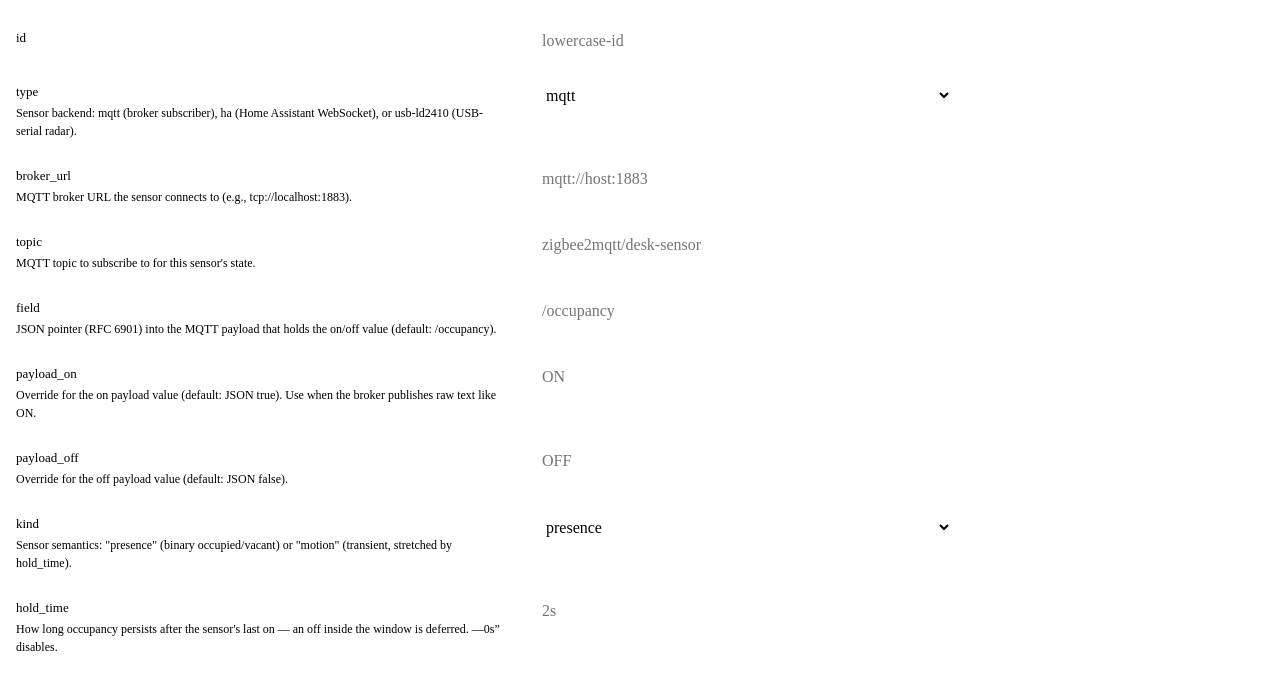
CreateEntityForm — id hygiene live feedback › rejects an id already present in existingIds
Type "desk" into the field labelled "id" at [742, 41], box [532,26,952,56]
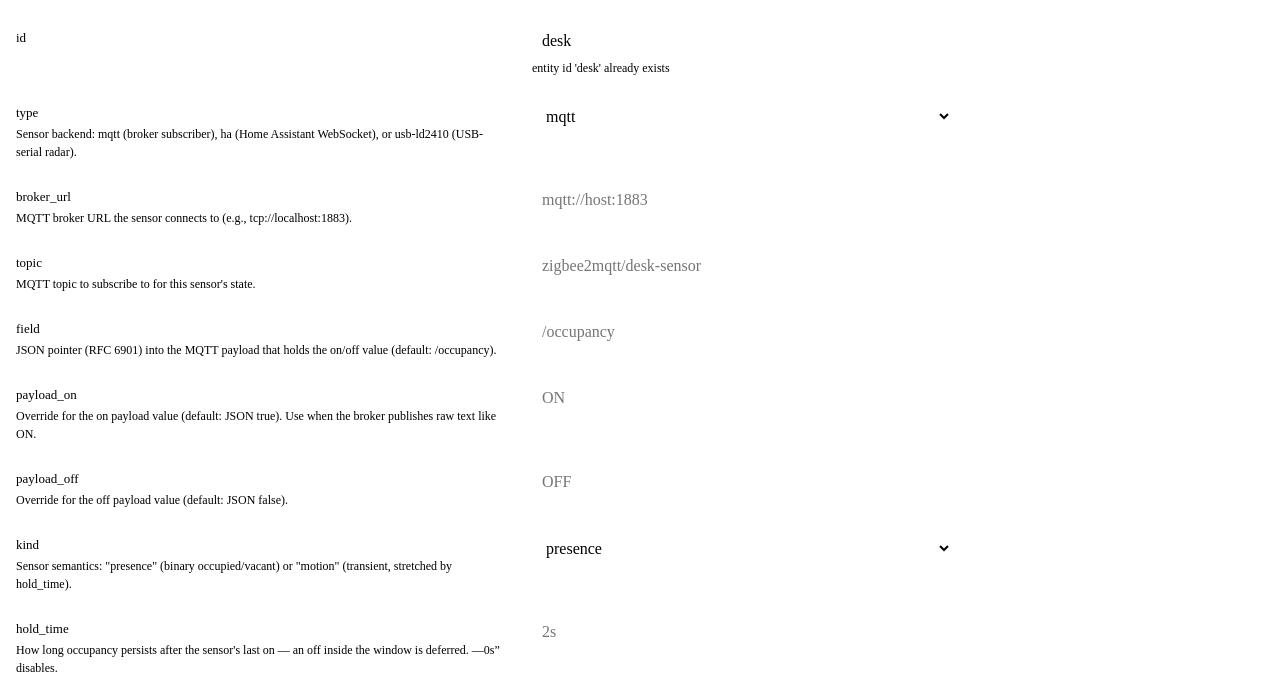
Check: the text "entity id 'desk' already exists" is shown, box [532,61,670,75]
